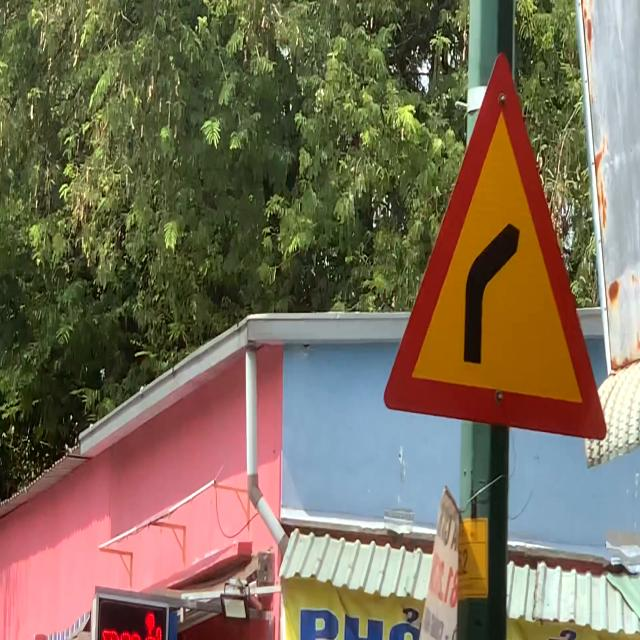W.201b: (371, 40, 626, 479)
